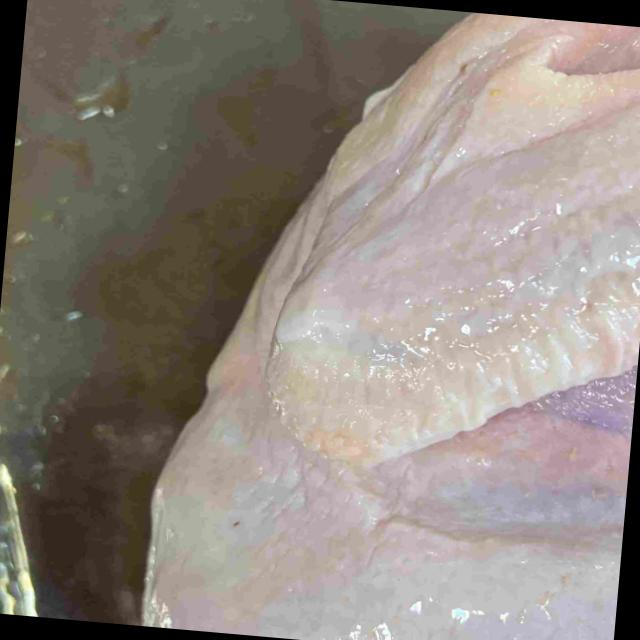wing: (272, 84, 640, 467)
